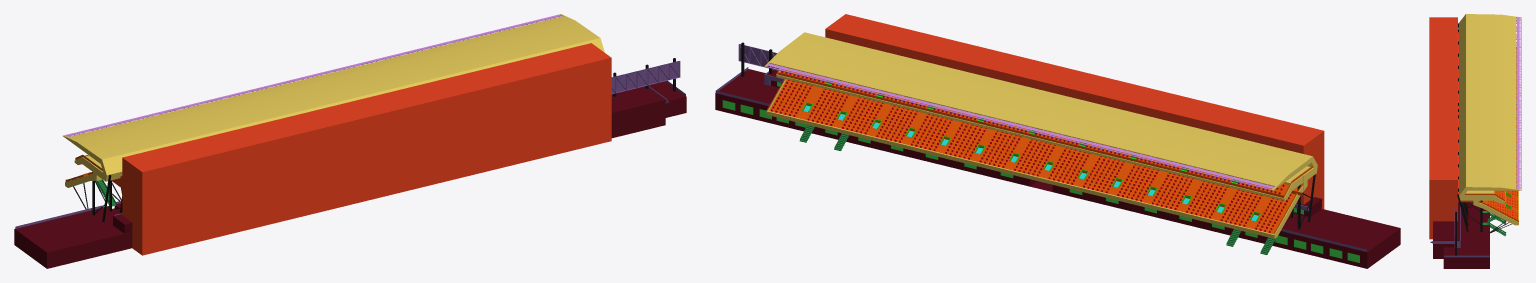
Rendered from building6_8.fbx.
The picture shows the model from 3 angles, left to right: view 1: azimuth 30°, elevation 25°; view 2: azimuth 150°, elevation 25°; view 3: azimuth 270°, elevation 25°; orthographic projection. The views are drawn at different scales.
Parts seen in each view (by area): view 1: back_wall.001, concrete, back_building, back_building_part, top_part, metal_rods; view 2: concrete, seat_base, back_wall.001, back_building, chairs, top_part, glass, back_building_part, seat_stairs, Bottom stairs, metal_rods, chair ground; view 3: concrete, back_wall.001, back_building, top_part, seat_base, metal_rods, back_building_part, Bottom stairs, chairs.
Boxes of the visible parts, left/top/right/bottom form: back_wall.001: left=111, top=43, right=611, bottom=255; concrete: left=63, top=14, right=604, bottom=187; back_building: left=14, top=81, right=686, bottom=268; back_building_part: left=15, top=61, right=685, bottom=228; top_part: left=64, top=14, right=562, bottom=136; metal_rods: left=73, top=58, right=675, bottom=222; concrete: left=764, top=32, right=1317, bottom=238; seat_base: left=767, top=69, right=1312, bottom=234; back_wall.001: left=825, top=14, right=1324, bottom=209; back_building: left=715, top=69, right=1400, bottom=268; chairs: left=770, top=71, right=1291, bottom=232; top_part: left=766, top=63, right=1273, bottom=190; glass: left=722, top=82, right=1359, bottom=262; back_building_part: left=715, top=44, right=1366, bottom=251; seat_stairs: left=802, top=80, right=1260, bottom=221; Bottom stairs: left=799, top=110, right=1276, bottom=254; metal_rods: left=741, top=42, right=1315, bottom=235; chair ground: left=803, top=105, right=1258, bottom=221; concrete: left=1459, top=14, right=1521, bottom=225; back_wall.001: left=1429, top=17, right=1473, bottom=239; back_building: left=1433, top=202, right=1489, bottom=268; top_part: left=1516, top=17, right=1521, bottom=189; seat_base: left=1464, top=47, right=1518, bottom=221; metal_rods: left=1455, top=23, right=1511, bottom=255; back_building_part: left=1430, top=206, right=1489, bottom=257; Bottom stairs: left=1482, top=211, right=1506, bottom=236; chairs: left=1488, top=190, right=1517, bottom=219.
Size of the model in its own units: 361495 by 44972 by 63472.
